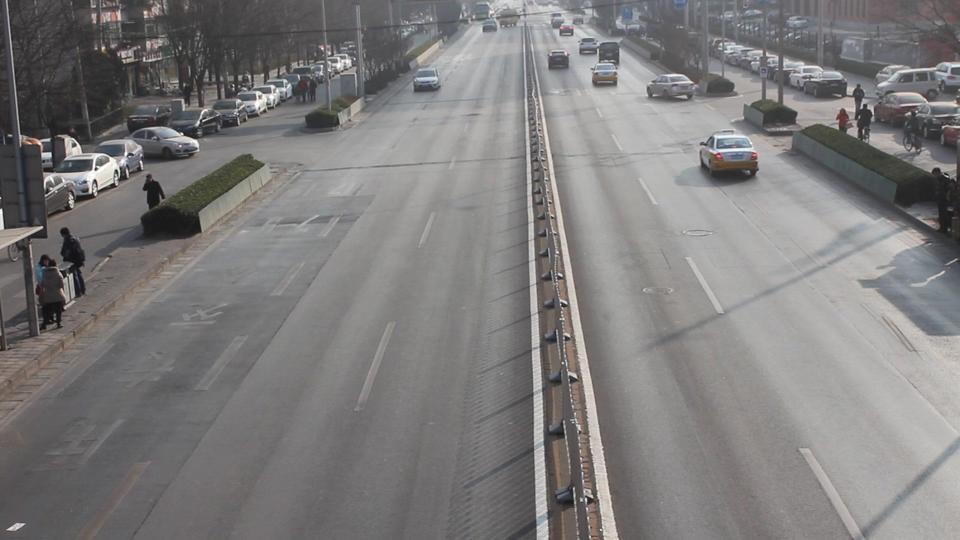car: (52, 152, 120, 200), (698, 132, 760, 177), (876, 67, 950, 102), (127, 126, 199, 160), (872, 91, 931, 125), (908, 101, 960, 139), (95, 140, 144, 178), (790, 66, 848, 97), (169, 107, 223, 138), (126, 102, 174, 132), (645, 73, 696, 101), (44, 174, 76, 214), (211, 98, 252, 126), (236, 89, 268, 117), (933, 61, 960, 91), (591, 61, 618, 87), (413, 67, 441, 92), (266, 80, 293, 105), (941, 116, 960, 146), (598, 41, 621, 65), (547, 48, 570, 69), (578, 37, 599, 55), (559, 22, 574, 37), (482, 19, 497, 33)
